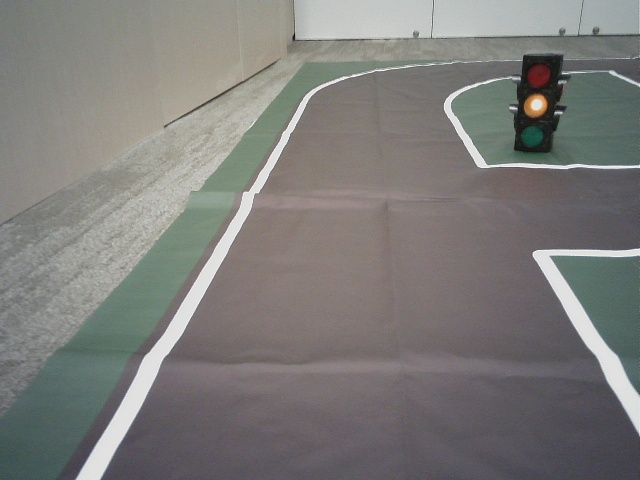yellow: (517, 53, 548, 148)
